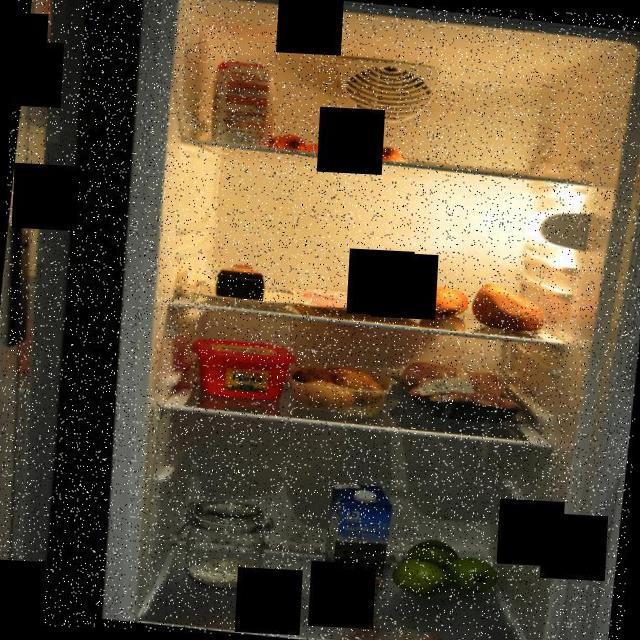Carne cerdo: (284, 282, 445, 324)
Carne pollo: (388, 355, 534, 425)
Leche: (320, 478, 398, 588)
Mantequilla: (186, 334, 299, 406)
Manzana: (386, 532, 505, 606)
Patata: (282, 357, 390, 418)
Queso: (211, 258, 275, 304)
Zanahoria: (268, 118, 418, 167)
